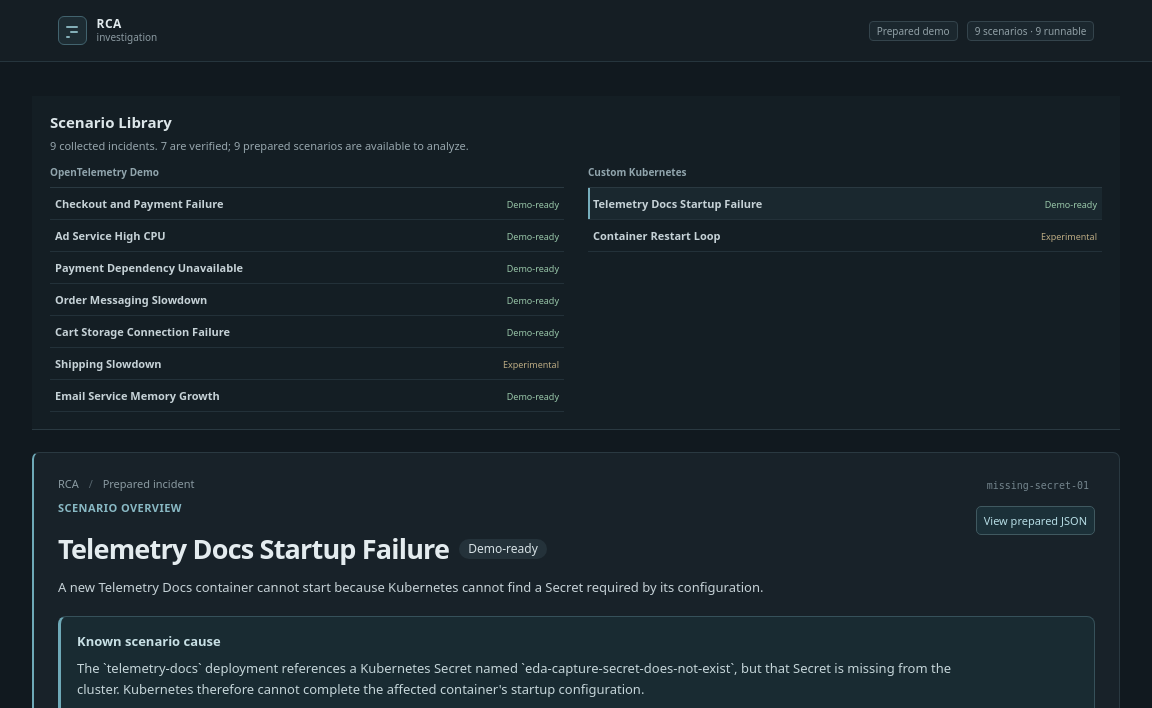
scenario overview separates the known cause from observed symptoms for ad-high-cpu-01
The width and height of the screenshot is (1152, 708).
Expected: the heading "Scenario overview" is shown, [58,500,182,515]
Click the button "Ad Service High CPU Demo-ready" at (110, 235), box [50,220,564,252]
(page scrolled)
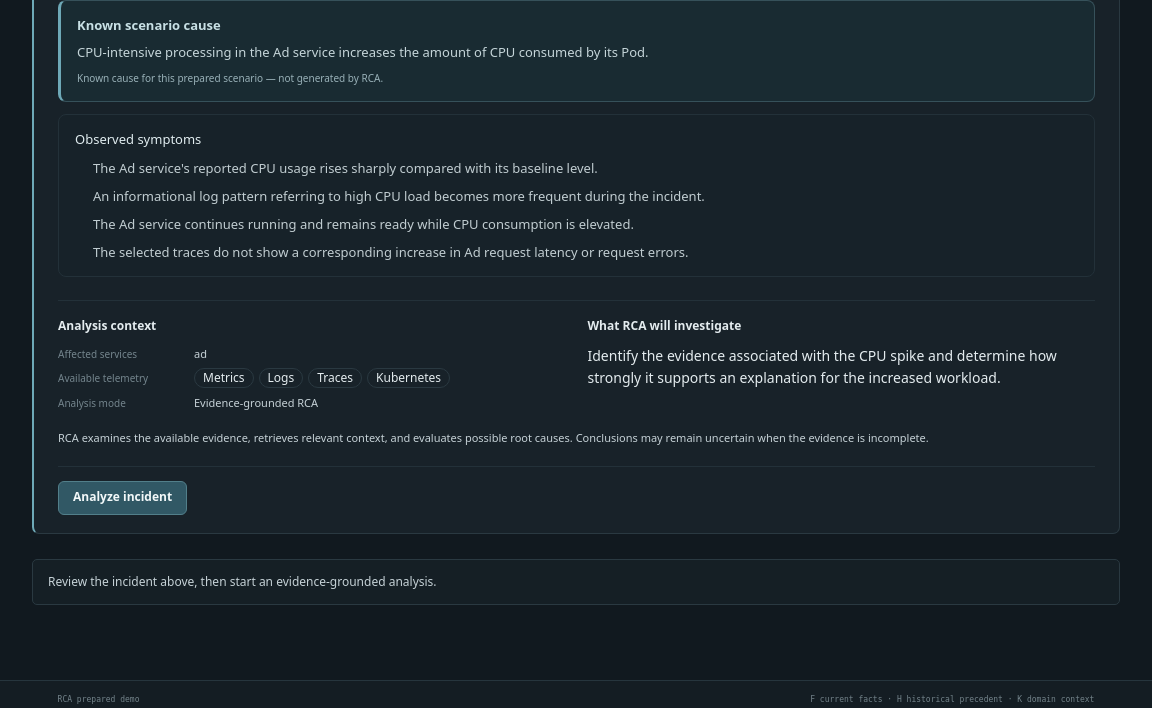
Expected: the text "CPU-intensive processing in the Ad service" is shown, [77,43,649,61]
Expected: the list item "reported CPU usage rises sharply" is shown, [93,159,598,177]
Expected: the icon "Metrics" is shown, [194,368,254,388]
